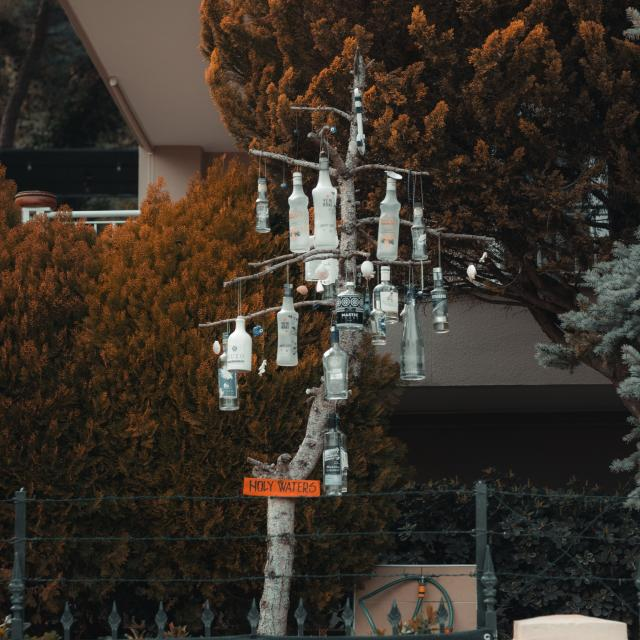Bottle: (313, 151, 338, 248), (401, 286, 425, 380), (377, 172, 400, 261), (323, 328, 348, 399), (277, 284, 298, 366), (289, 172, 310, 253), (218, 333, 239, 411), (323, 414, 342, 496), (374, 266, 399, 325), (228, 317, 252, 373), (336, 283, 364, 330), (431, 268, 449, 333), (336, 414, 348, 493), (412, 202, 428, 261), (371, 290, 386, 344), (256, 178, 270, 232), (321, 259, 338, 300), (305, 260, 322, 281)
